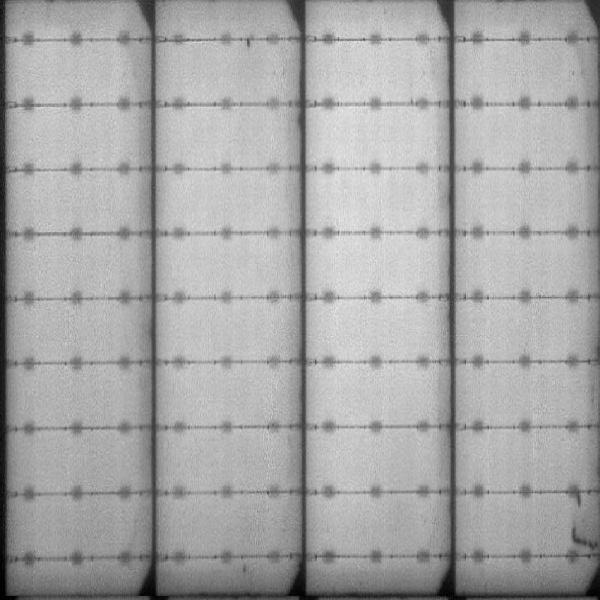scratch: (568, 494, 594, 549)
